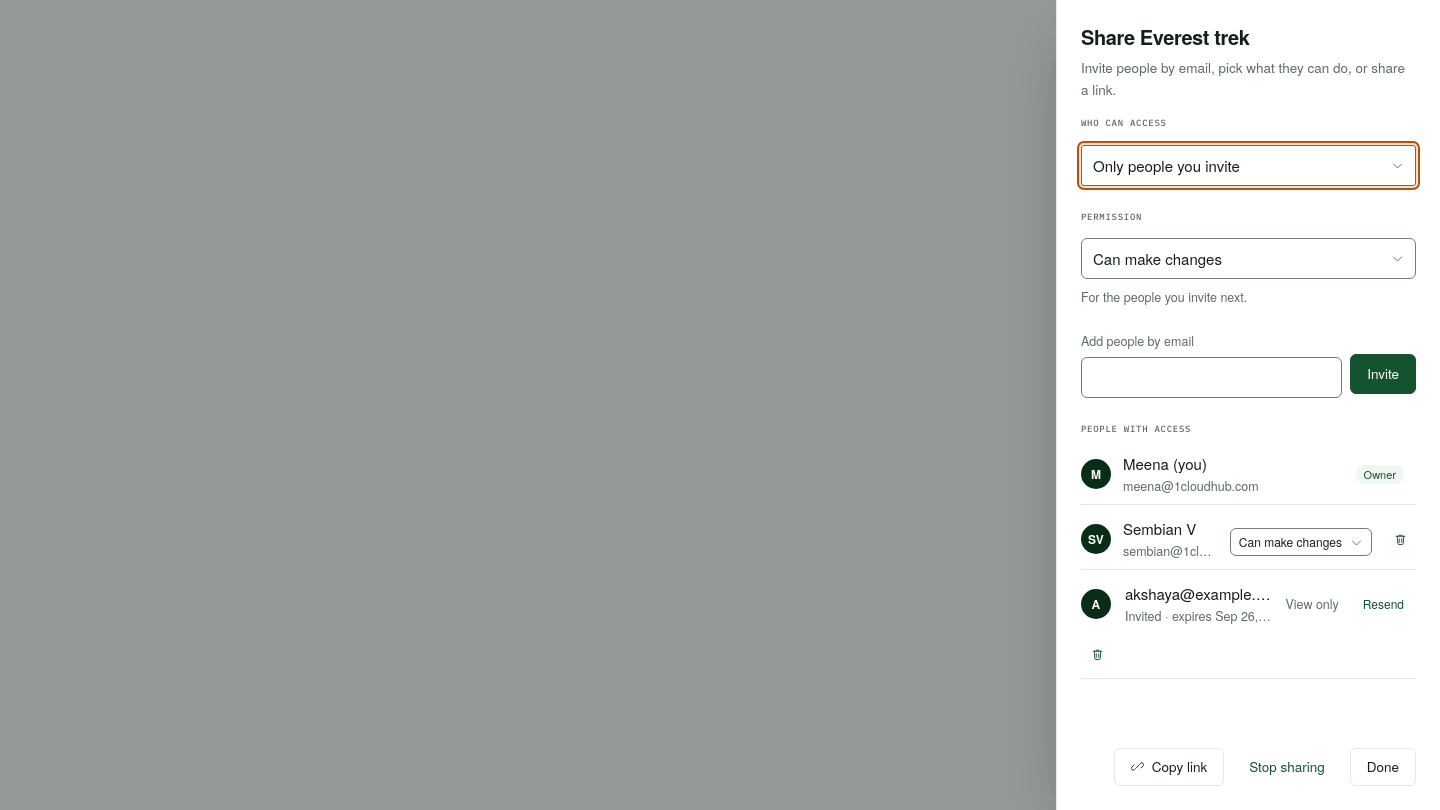
it: ShareSheet › SHARE-01 "Anyone with the link" turns link access on at the sheet permission; Copy link then copies the keyed address and reads "Link copied"
Press Enter
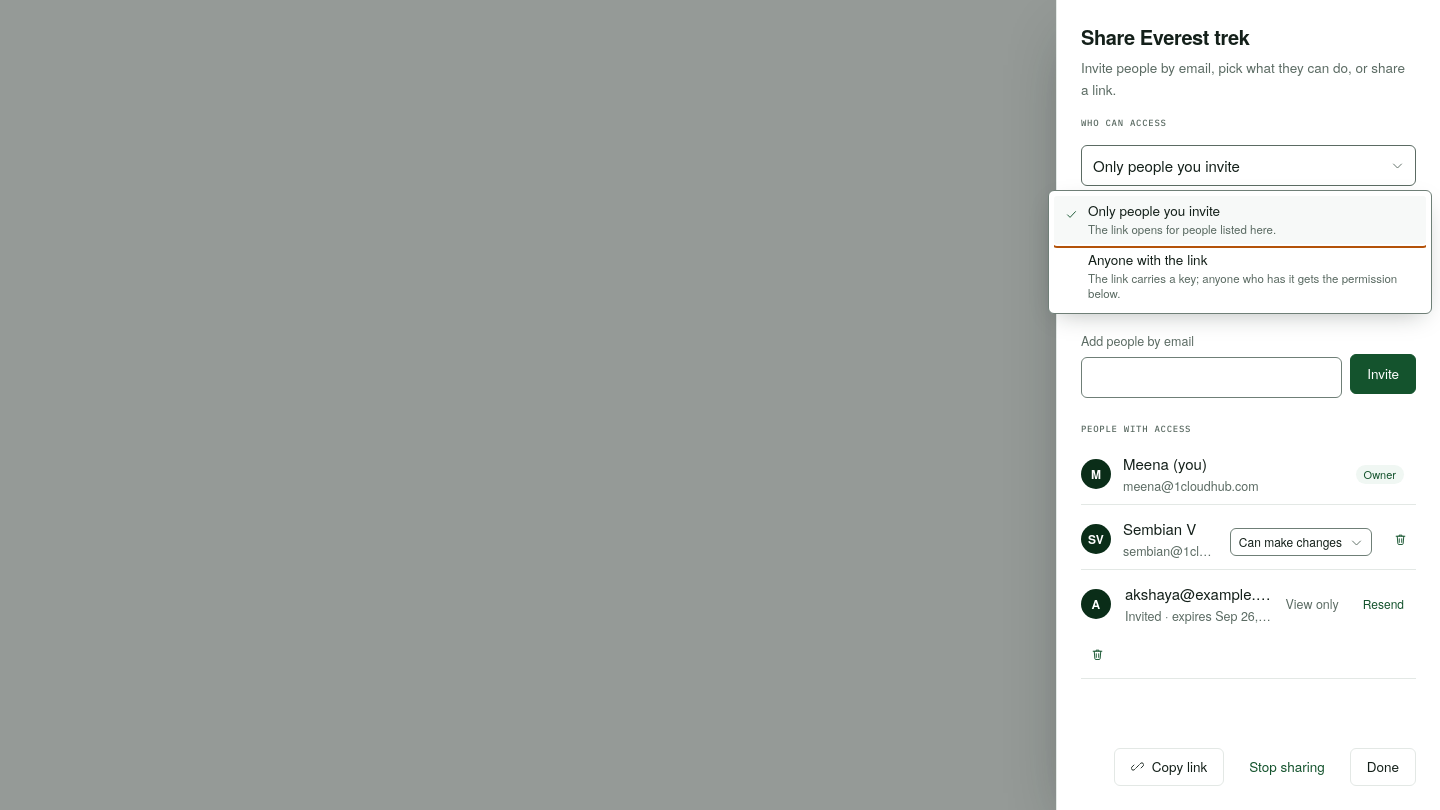
Click the option "Anyone with the link" at (1243, 276), box [1088,250,1397,301]
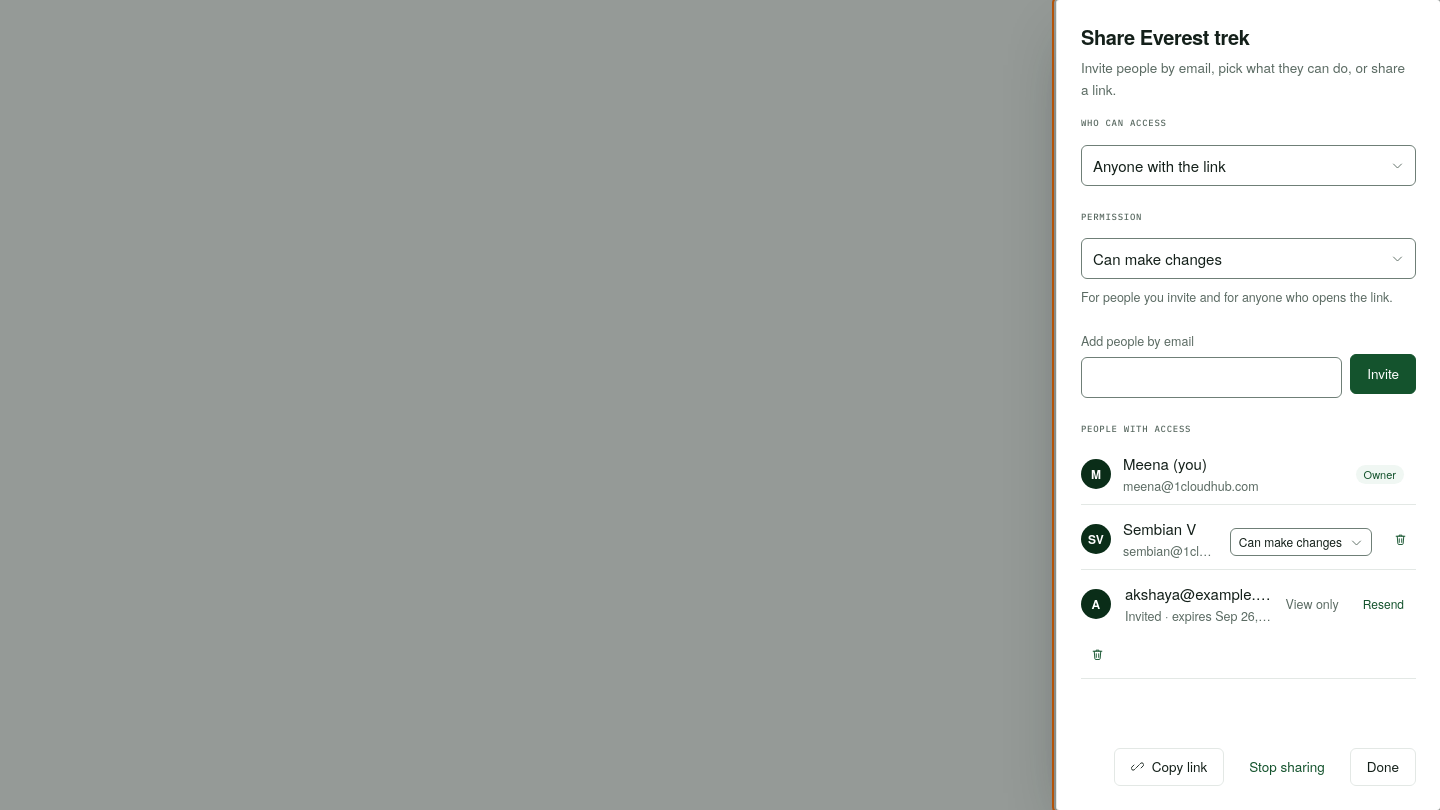
expect the dropdown named "Who can access" reads "Anyone with the link": met, box [1081,145,1416,186]
Click the button "Copy link" at (1169, 767), box [1114,748,1224,786]
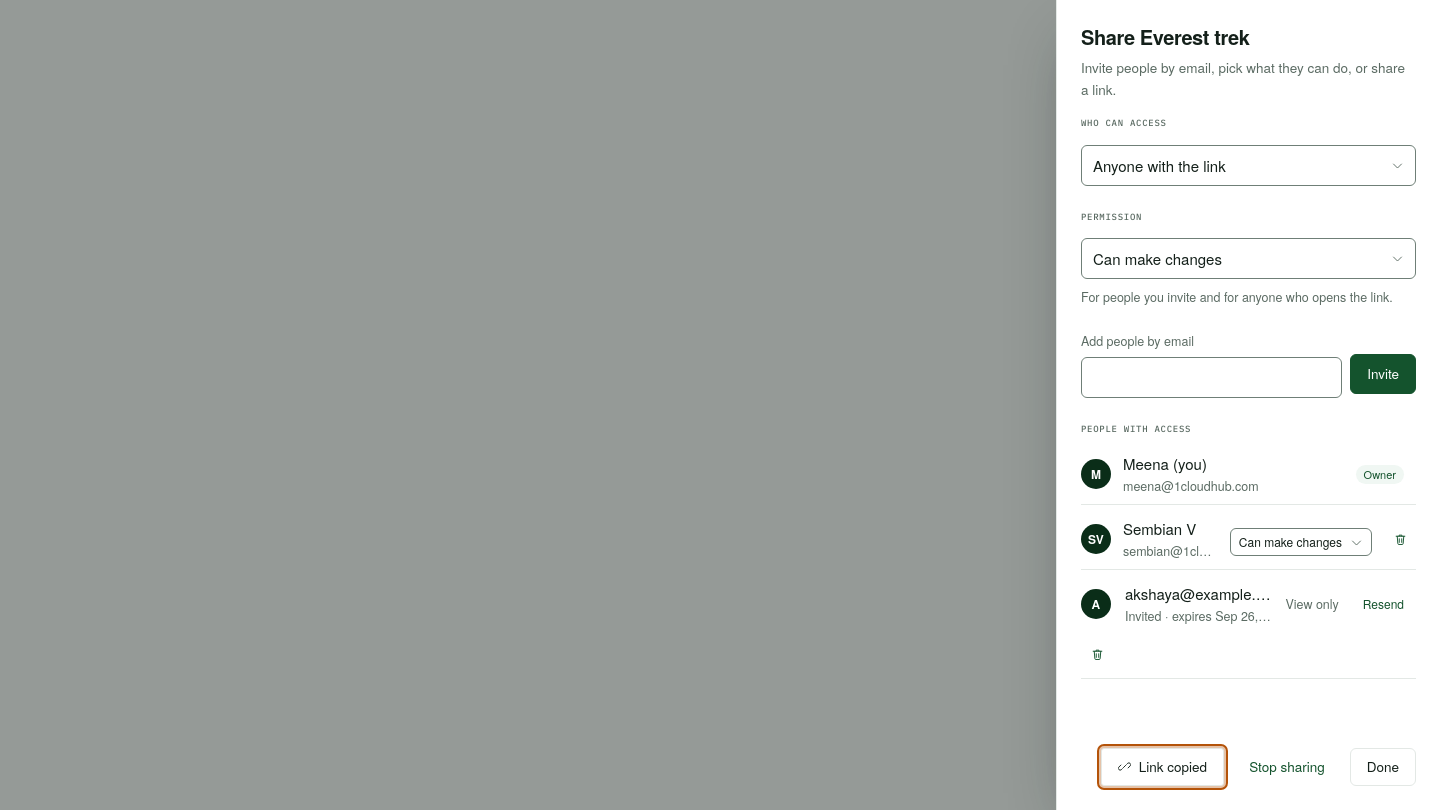
expect the button "Link copied" is shown: met, box [1101,748,1224,786]
